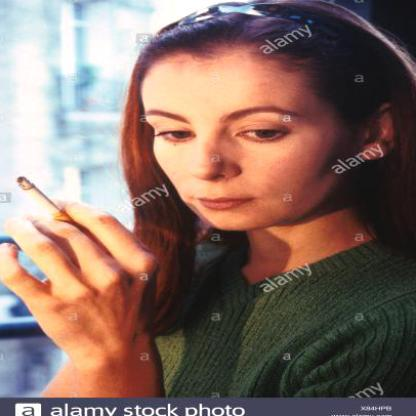cigarette: (11, 172, 70, 225)
person: (118, 6, 415, 405)
